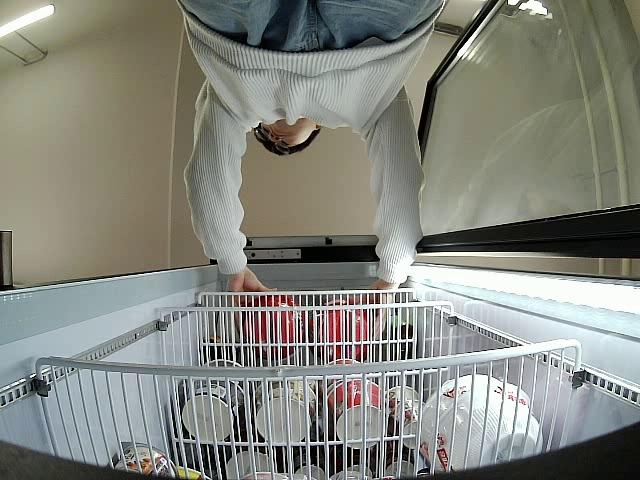00_hand: (228, 275, 280, 331), (356, 281, 391, 331)
10_wangTtukkeong: (244, 292, 304, 357), (311, 301, 367, 355)
